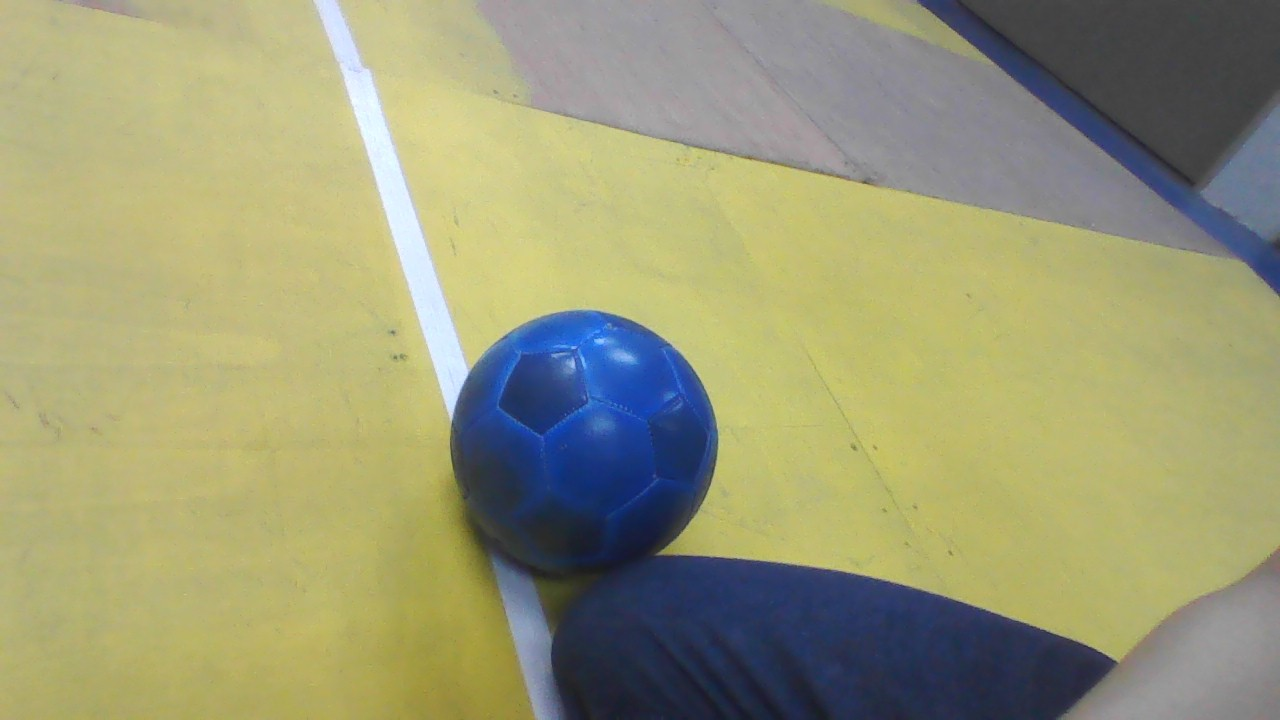Blue: (449, 311, 719, 579)
